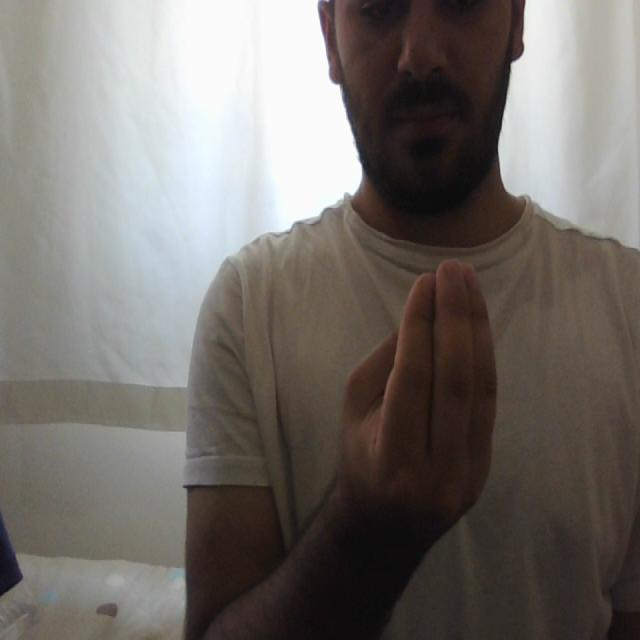iyi: (337, 254, 504, 536)
